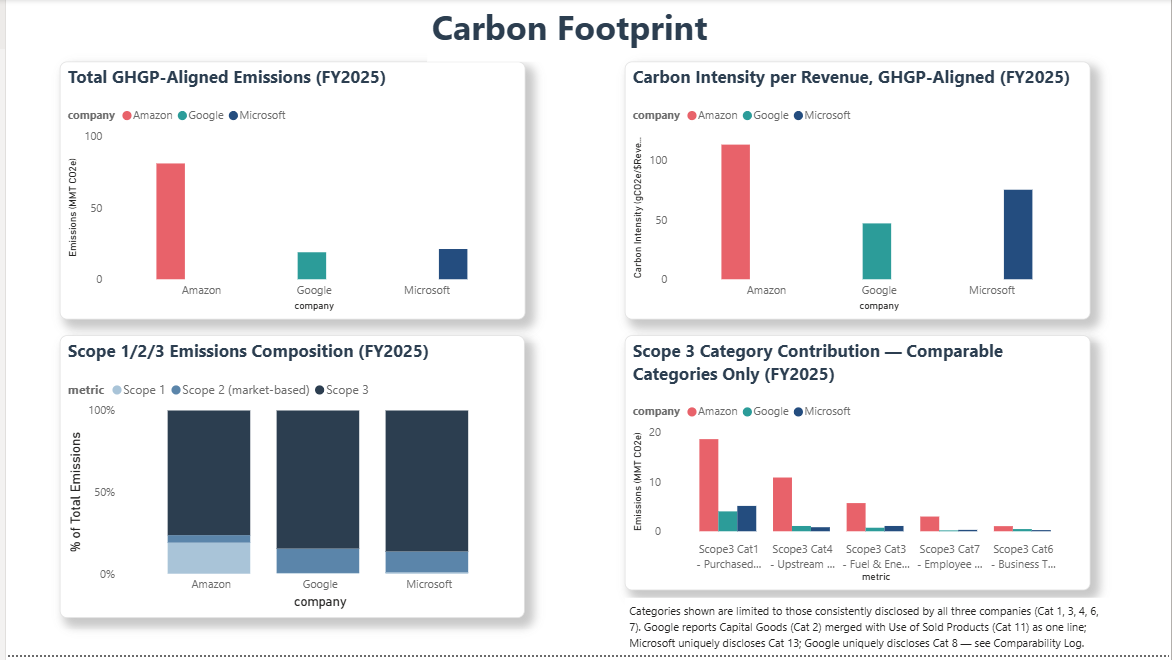

The page's visual inventory and layout, read from the dashboard file:
{"tool":"powerbi","page":{"name":"Carbon Footprint","canvas":[1280,720],"ordinal":1},"visuals":[{"type":"clusteredColumnChart","title":"Total GHGP-Aligned Emissions (FY2025)","fields":{"Category":["esg_data_export.company"],"Series":["esg_data_export.company"],"Y":["Sum(esg_data_export.value_numeric)"]},"box":[58.6,68.6,511.4,282.9],"z":0},{"type":"textbox","box":[462.4,0,354,68.6],"z":1000},{"type":"clusteredColumnChart","title":"Carbon Intensity per Revenue, GHGP-Aligned (FY2025)","fields":{"Category":["esg_data_export.company"],"Series":["esg_data_export.company"],"Y":["Sum(esg_data_export.value_numeric)"]},"box":[678.6,68.6,511.4,282.9],"z":2000},{"type":"hundredPercentStackedColumnChart","title":"Scope 1/2/3 Emissions Composition (FY2025)","fields":{"Category":["esg_data_export.company"],"Series":["esg_data_export.metric"],"Y":["Sum(esg_data_export.value_numeric)"]},"box":[59,369.1,510.5,310.1],"z":3000},{"type":"clusteredColumnChart","title":"Scope 3 Category Contribution — Comparable Categories Only (FY2025)","fields":{"Series":["esg_data_export.company"],"Y":["Sum(esg_data_export.value_numeric)"],"Category":["esg_data_export.metric"]},"box":[678.6,368.6,511.4,280],"z":4000},{"type":"textbox","box":[679.2,656.9,531,63.1],"z":5000}]}

Visuals, with their boxes in screenshot pixels (x1, y1, x2, y2), scaled from the page's 1280x720 canvas onto the 1172x660 screenshot:
"Total GHGP-Aligned Emissions (FY2025)" clusteredColumnChart: (54,63,522,322)
textbox: (423,0,748,63)
"Carbon Intensity per Revenue, GHGP-Aligned (FY2025)" clusteredColumnChart: (621,63,1090,322)
"Scope 1/2/3 Emissions Composition (FY2025)" hundredPercentStackedColumnChart: (54,338,521,623)
"Scope 3 Category Contribution — Comparable Categories Only (FY2025)" clusteredColumnChart: (621,338,1090,595)
textbox: (622,602,1108,659)
